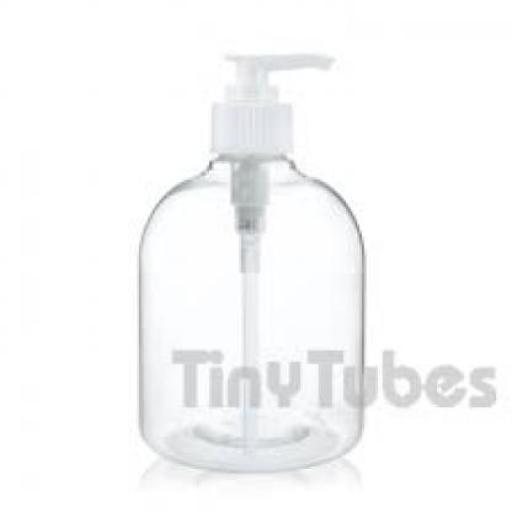plastic: (139, 48, 366, 469), (209, 50, 335, 152)
